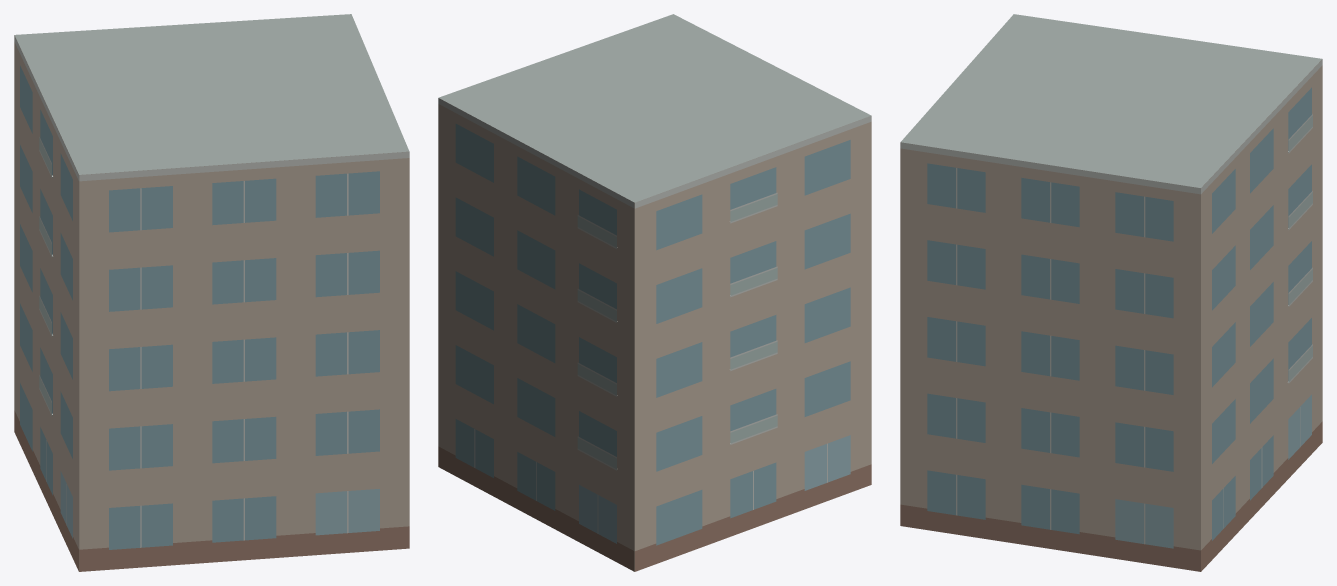
The model's file is survey-upis-32948007.glb.
3 renders of one model, left to right at view 1: azimuth 30°, elevation 25°; view 2: azimuth 150°, elevation 25°; view 3: azimuth 270°, elevation 25°, orthographic. The views are drawn at different scales.
Parts seen in each view (by area): view 1: survey-upis-32948007.tmp; view 2: survey-upis-32948007.tmp; view 3: survey-upis-32948007.tmp.
Boxes of the visible parts, x1,y1,x2,y2 form: survey-upis-32948007.tmp: (14, 14, 409, 571); survey-upis-32948007.tmp: (438, 14, 871, 571); survey-upis-32948007.tmp: (900, 14, 1322, 571).
Size of the model in its own units: 14.71 by 15.1 by 15.07.
